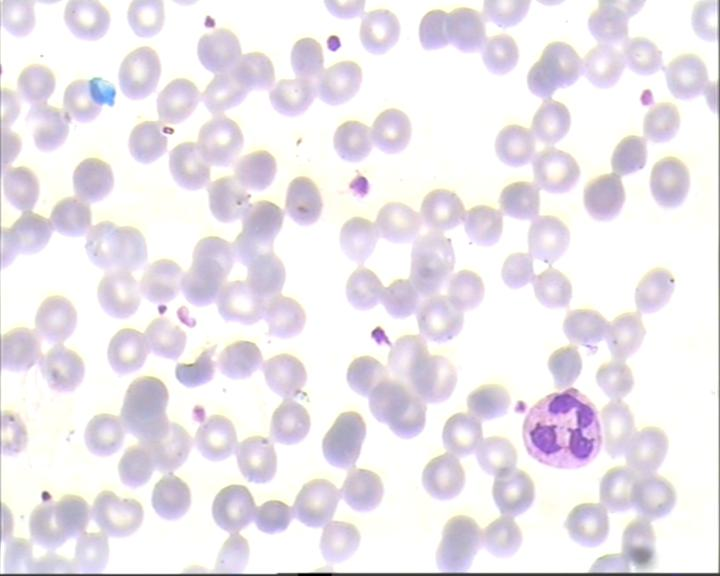neut: (520, 386, 604, 472)
